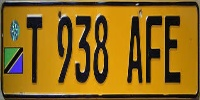T: (24, 13, 46, 86)
